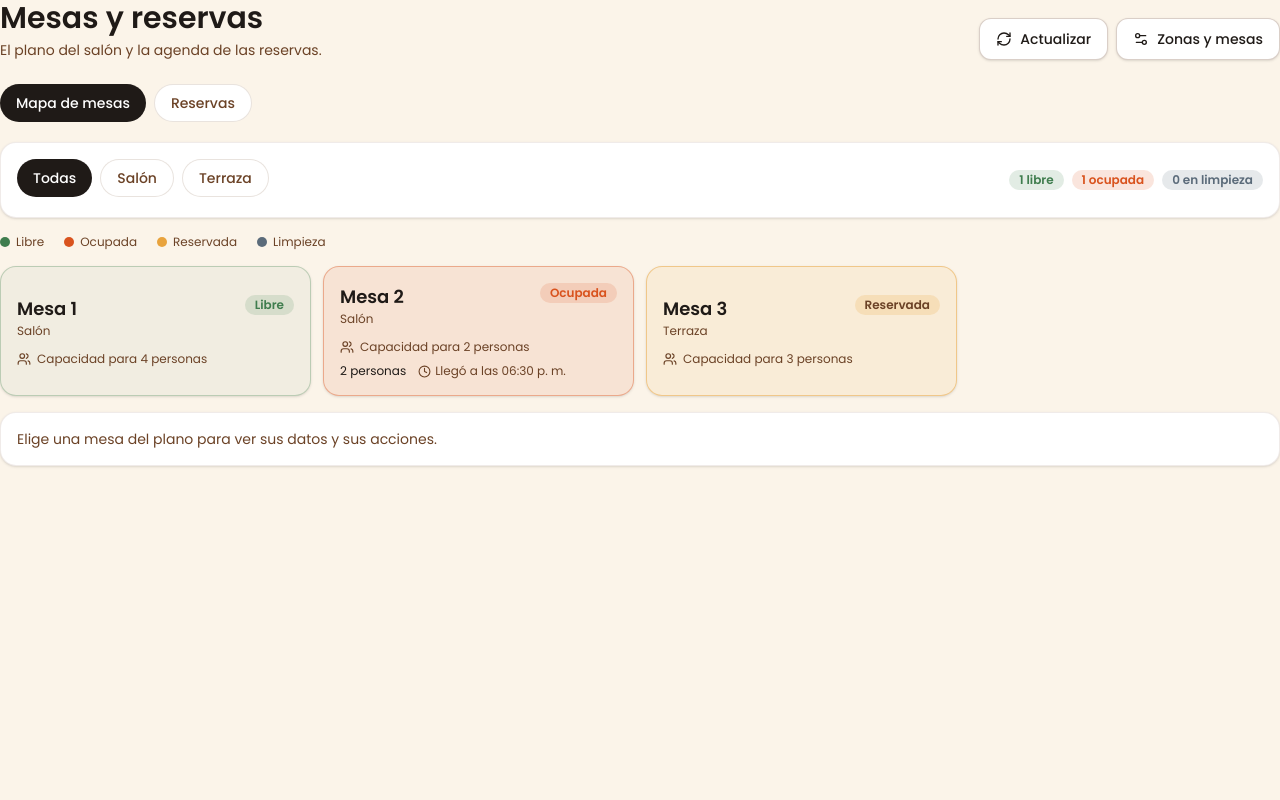
Test: Mesas › si el servidor rechaza la llegada, el mensaje se queda en la ventana
Step 1. Click the button with aria-label "Mesa 1, Salón, Libre, capacidad 4" → point(44, 308), box x1=0 y1=266 x2=311 y2=396
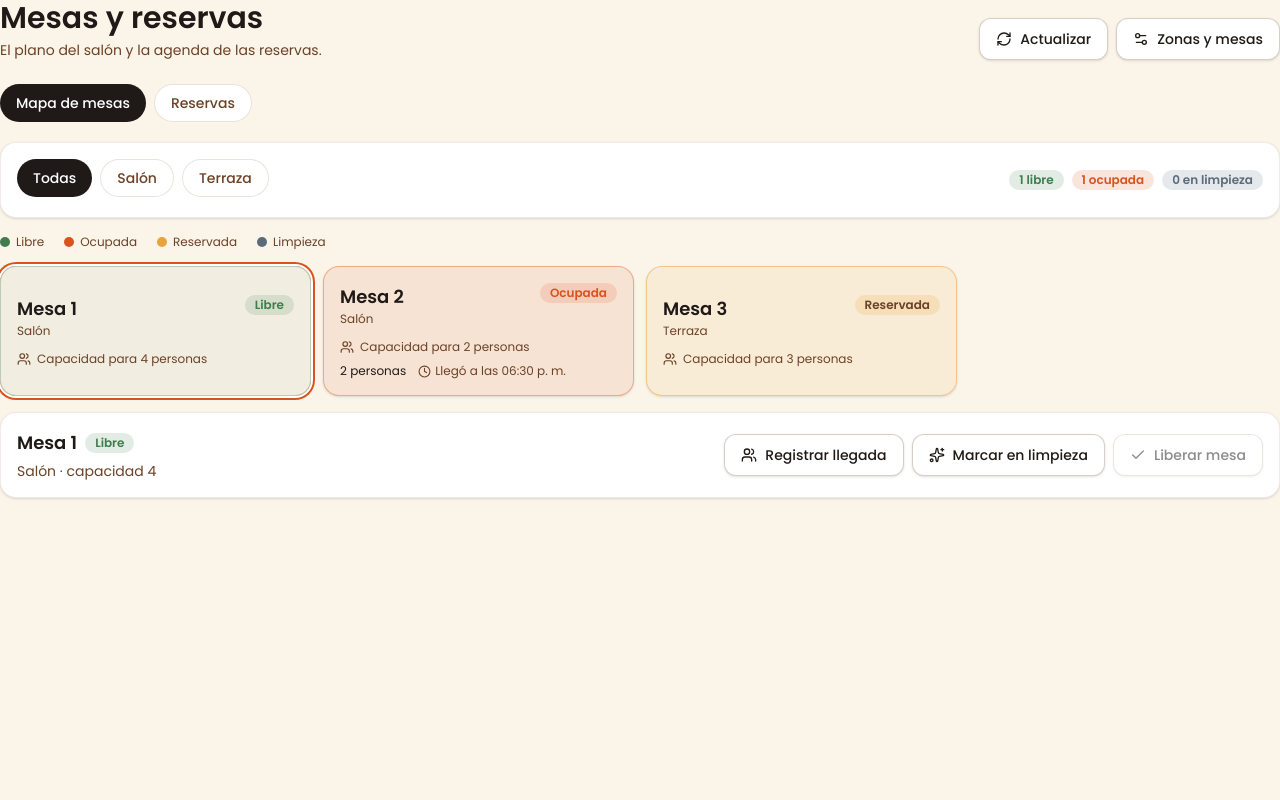
Step 2. Click the button "Registrar llegada" → point(814, 455), box x1=724 y1=434 x2=904 y2=476
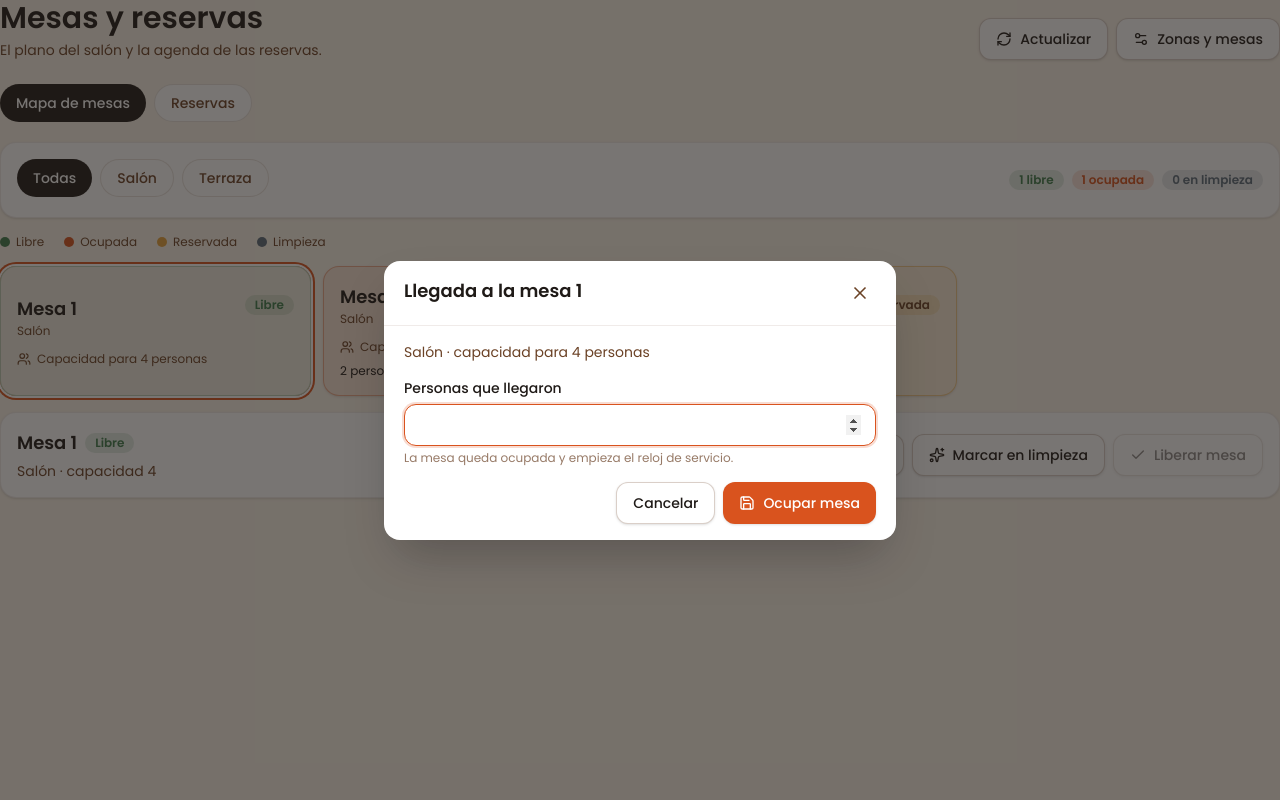
Step 3. Type "2" into the number field labelled "Personas que llegaron" → point(640, 424), box x1=404 y1=404 x2=876 y2=446
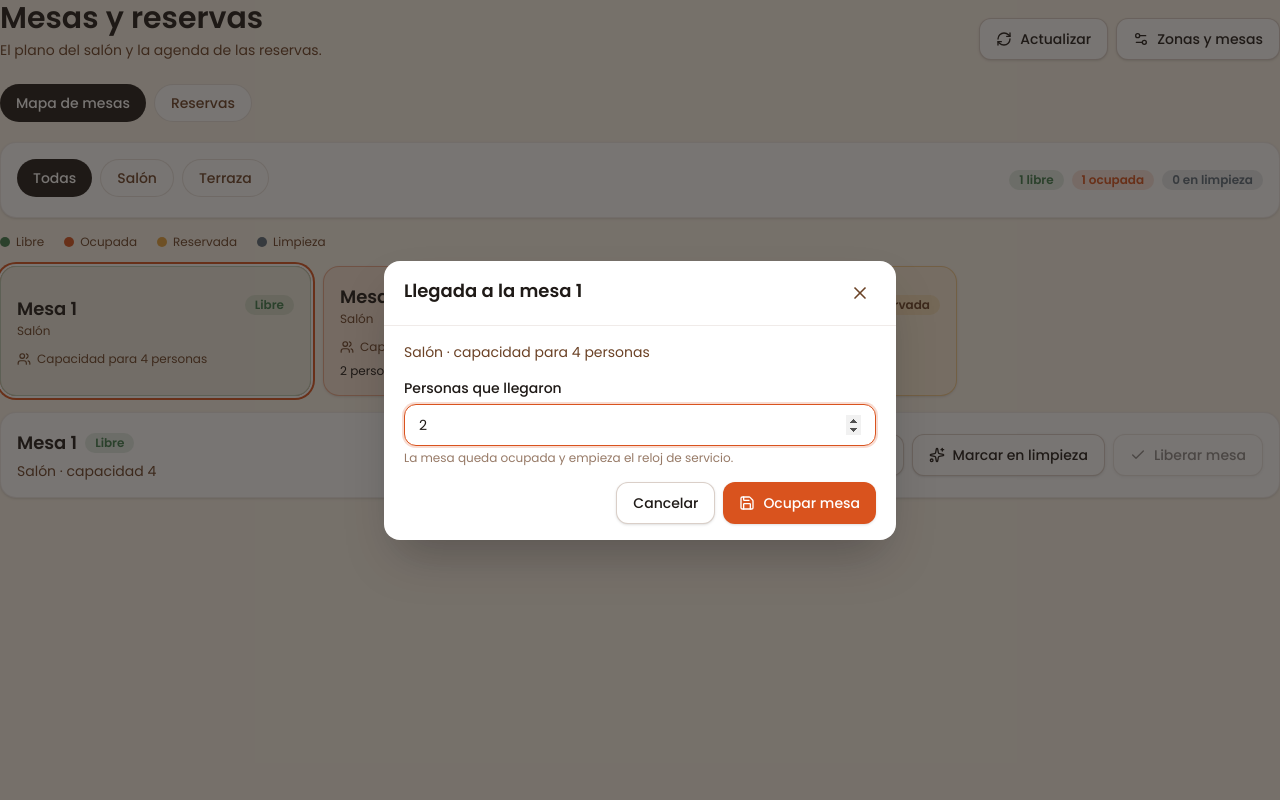
Step 4. Click the button "Ocupar mesa" → point(800, 502), box x1=723 y1=482 x2=876 y2=524
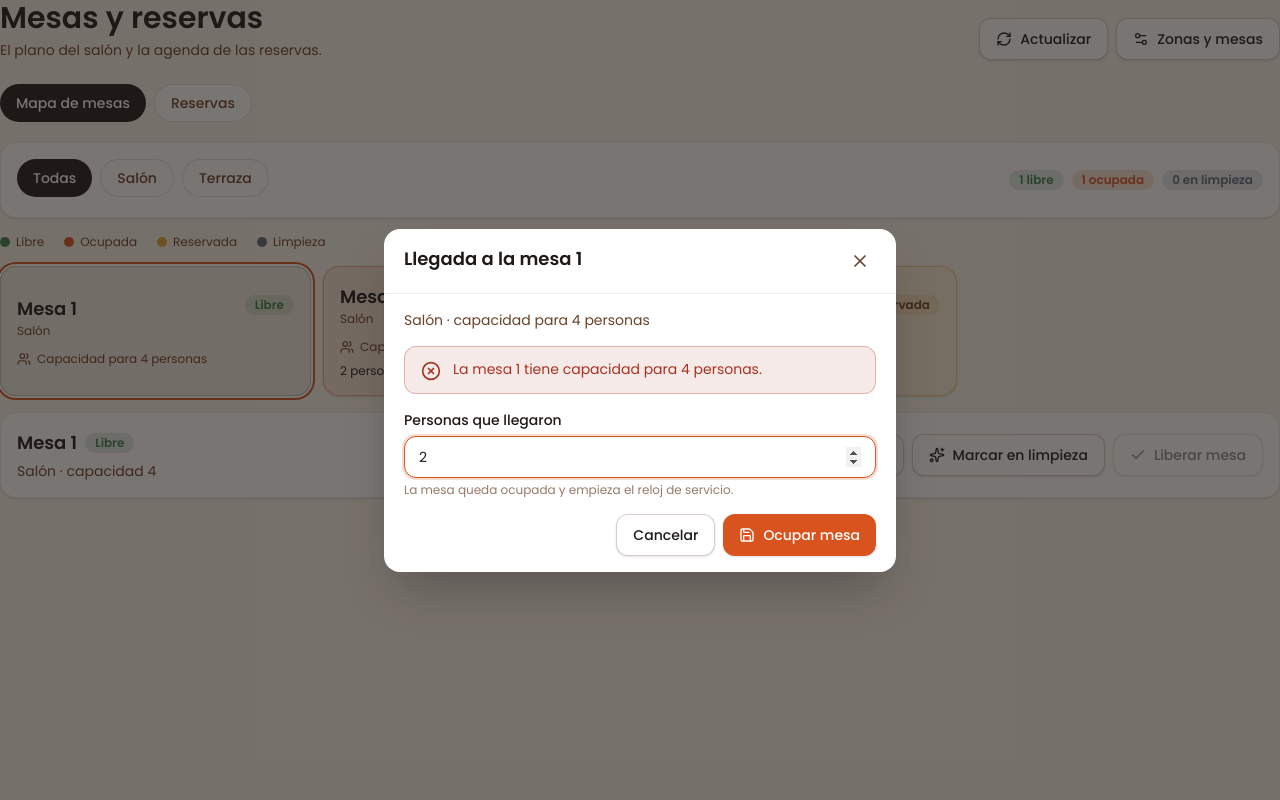
Check: the dialog "Llegada a la mesa 1" is shown, box x1=384 y1=228 x2=896 y2=572
Check: the text "La mesa 1 tiene capacidad para 4 personas." is shown, box x1=453 y1=358 x2=762 y2=378
